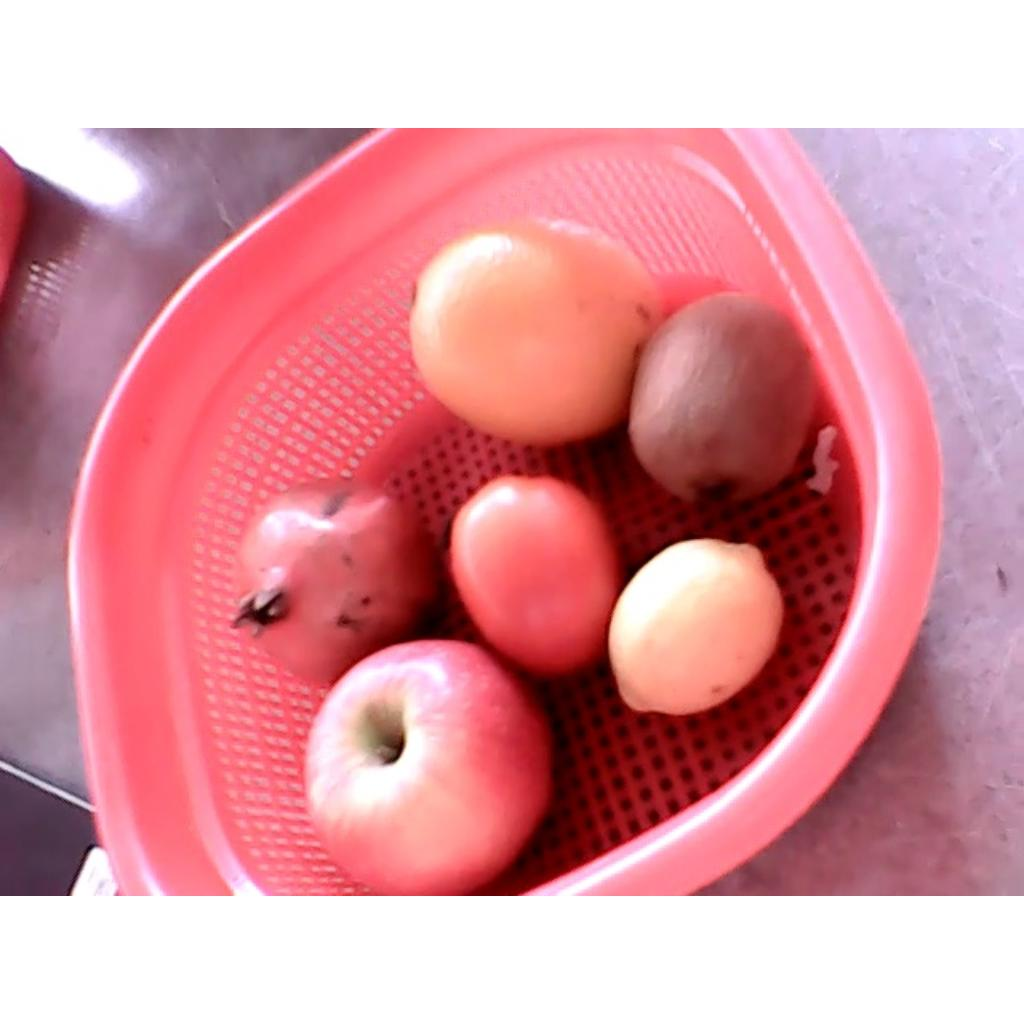apple: (303, 638, 557, 894)
kiwi: (626, 293, 817, 507)
lemon: (608, 538, 781, 715)
orange: (409, 217, 667, 446)
pomegranate: (228, 477, 439, 684)
tomato: (449, 476, 622, 681)
